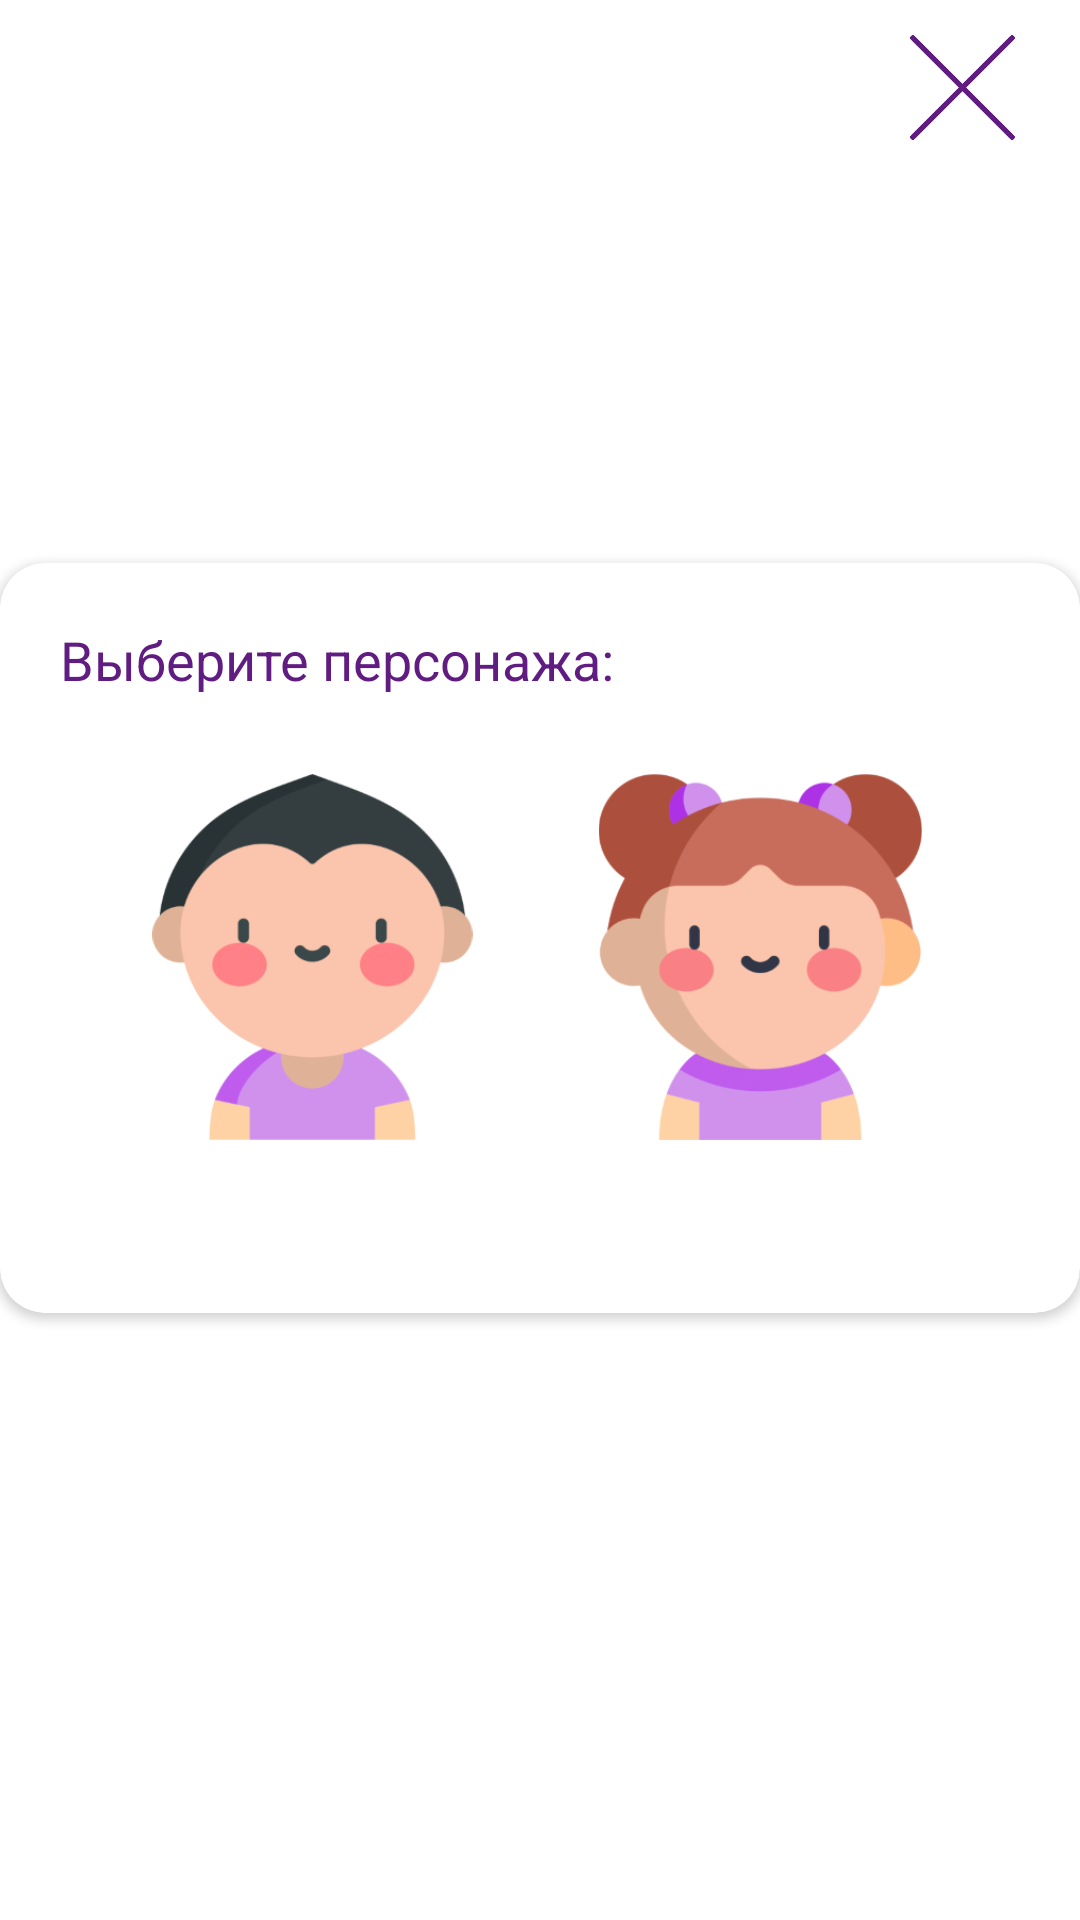

Named icons in this screenshot (1080px×1920px) and their centers, point (x, y):
back cross: point (962, 87)
